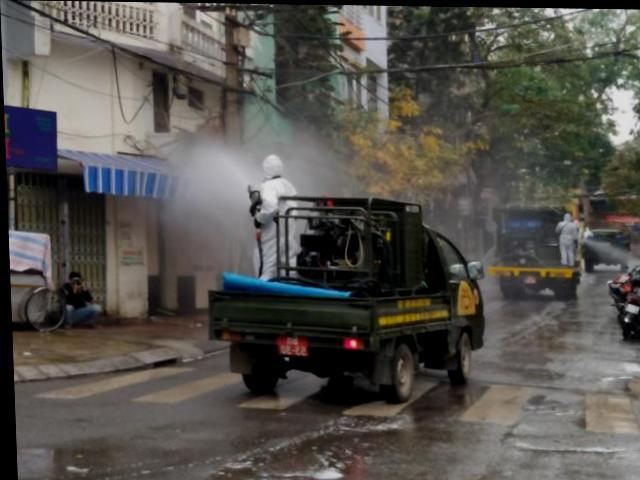License_Plate: (277, 335, 309, 357), (521, 274, 538, 285)
